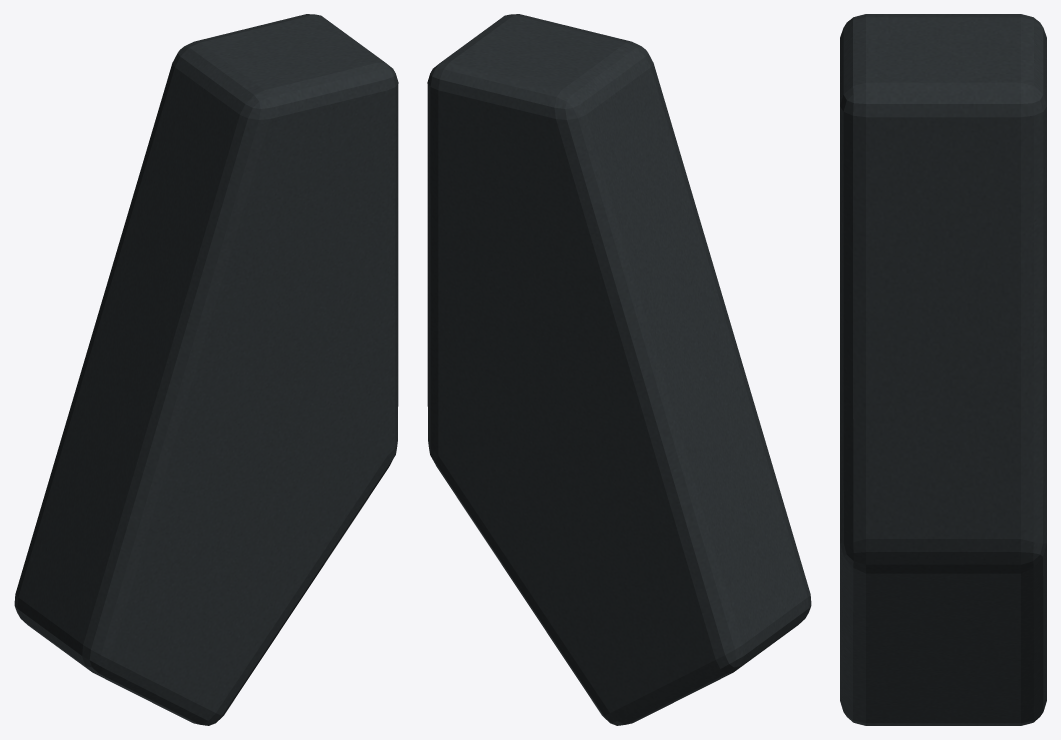
The model's file is wisp02.trigger.glb.
3 views of the same model, side by side, from view 1: azimuth 30°, elevation 25°; view 2: azimuth 150°, elevation 25°; view 3: azimuth 270°, elevation 25° (orthographic). The views are drawn at different scales.
Parts seen in each view (by area): view 1: VIS_wisp02_trigger; view 2: VIS_wisp02_trigger; view 3: VIS_wisp02_trigger.
Part boxes in pixels (x1,y1,x2,y2): VIS_wisp02_trigger: [14, 14, 398, 725]; VIS_wisp02_trigger: [427, 14, 811, 725]; VIS_wisp02_trigger: [840, 14, 1046, 725].
Bounding box in the file's own units: 0.0167 × 0.0316 × 0.008.
1 material, 1 textured.
